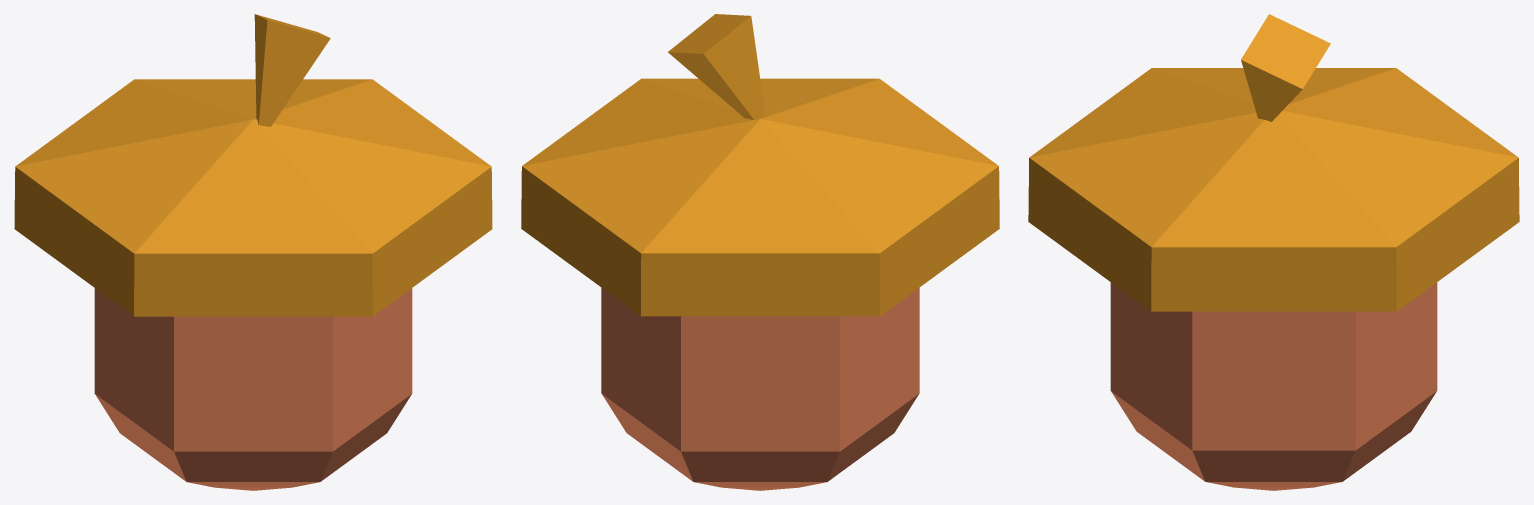
Rendered from lpAcorn.fbx.
3 renders of one model, left to right at view 1: azimuth 30°, elevation 25°; view 2: azimuth 150°, elevation 25°; view 3: azimuth 270°, elevation 25°, orthographic. The views are drawn at different scales.
Visible parts, largest first — view 1: Circle, Cone; view 2: Circle, Cone; view 3: Circle, Cone.
Boxes of the visible parts, box(x1,y1,x2,y2) form: Circle: box(14, 79, 492, 490); Cone: box(254, 14, 330, 126); Circle: box(521, 78, 999, 490); Cone: box(668, 14, 765, 119); Circle: box(1028, 68, 1519, 490); Cone: box(1241, 14, 1330, 121).
Bounding box in the file's own units: 261 × 326 × 301.
